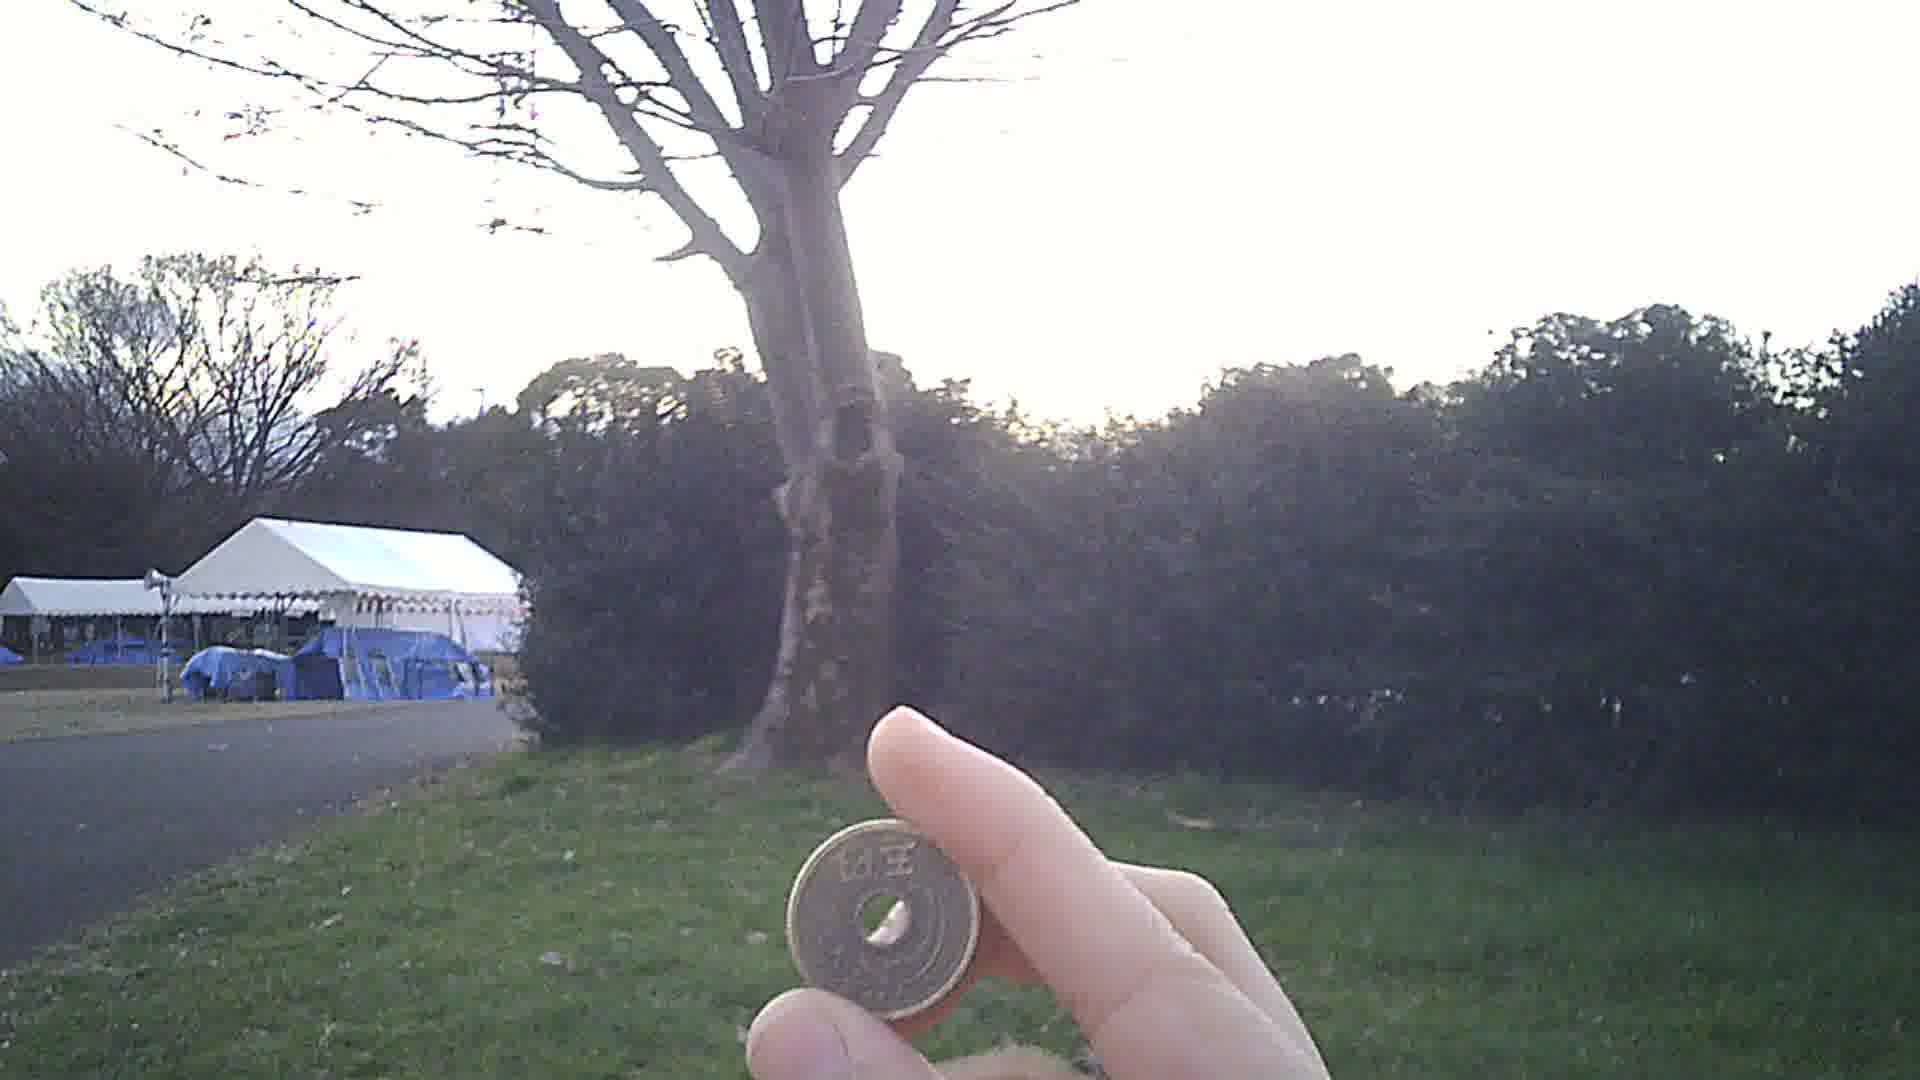5 Yen: (782, 812, 988, 1021)
